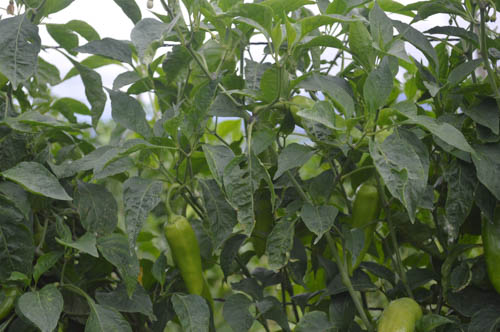ChiliPepper: (348, 183, 379, 278), (167, 217, 202, 294)
